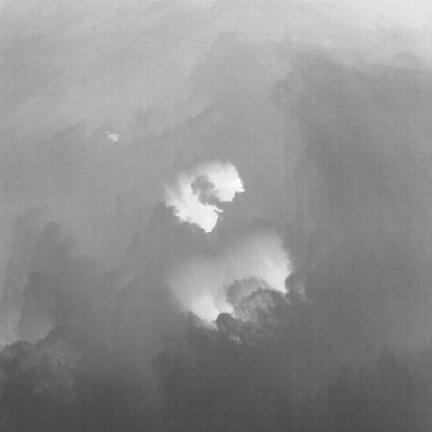flukeprints: (166, 182, 221, 232), (209, 175, 244, 202)
